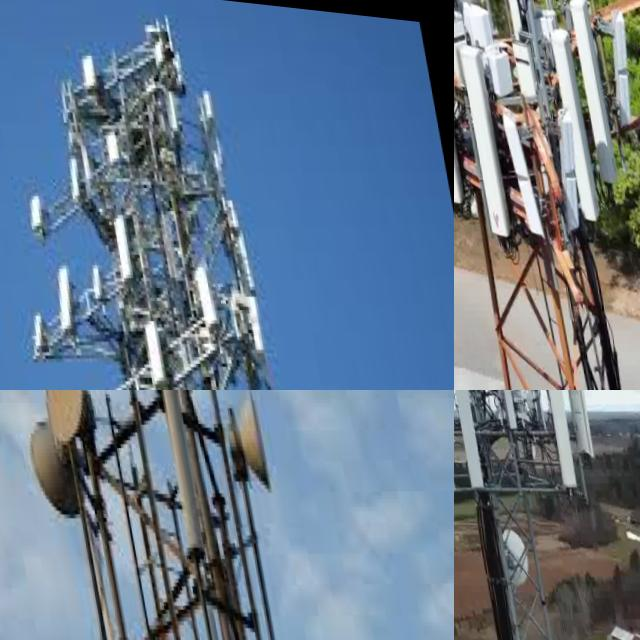GSM Antenna: (454, 28, 514, 244), (545, 14, 603, 215), (149, 390, 213, 561), (559, 0, 619, 175), (493, 93, 542, 233), (521, 390, 581, 481), (454, 390, 485, 492), (44, 254, 82, 334), (130, 302, 163, 380), (100, 202, 131, 282), (186, 250, 213, 320), (79, 249, 107, 308), (21, 291, 49, 346), (494, 390, 531, 424), (18, 183, 45, 229), (59, 145, 80, 190), (76, 44, 97, 85), (486, 390, 516, 418), (102, 123, 119, 162)
Microwave Antenna: (22, 404, 85, 524), (225, 390, 277, 490), (27, 390, 102, 450), (491, 514, 530, 583)
